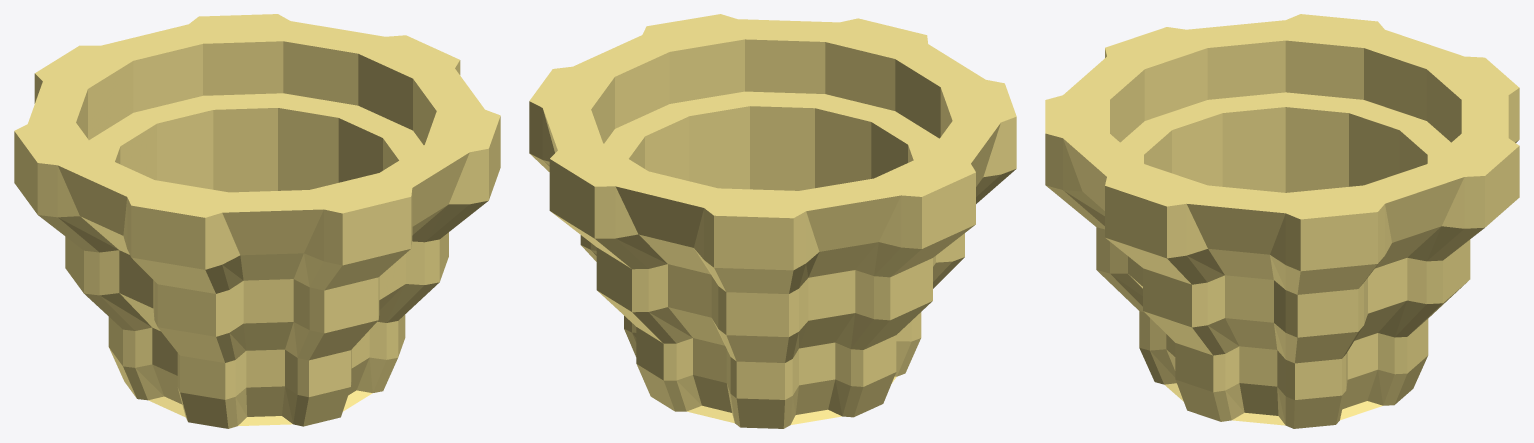
Rendered from chandelier.fbx.
3 views of the same model, side by side, from view 1: azimuth 30°, elevation 25°; view 2: azimuth 150°, elevation 25°; view 3: azimuth 270°, elevation 25° (orthographic).
Visible parts, largest first — view 1: pPipe1; view 2: pPipe1; view 3: pPipe1.
Part boxes in pixels (x1=…): pPipe1: x1=14, y1=14, x2=500, y2=428; pPipe1: x1=529, y1=14, x2=1016, y2=428; pPipe1: x1=1045, y1=14, x2=1519, y2=428.
Bounding box in the file's own units: 2.13 × 1.24 × 2.07.
